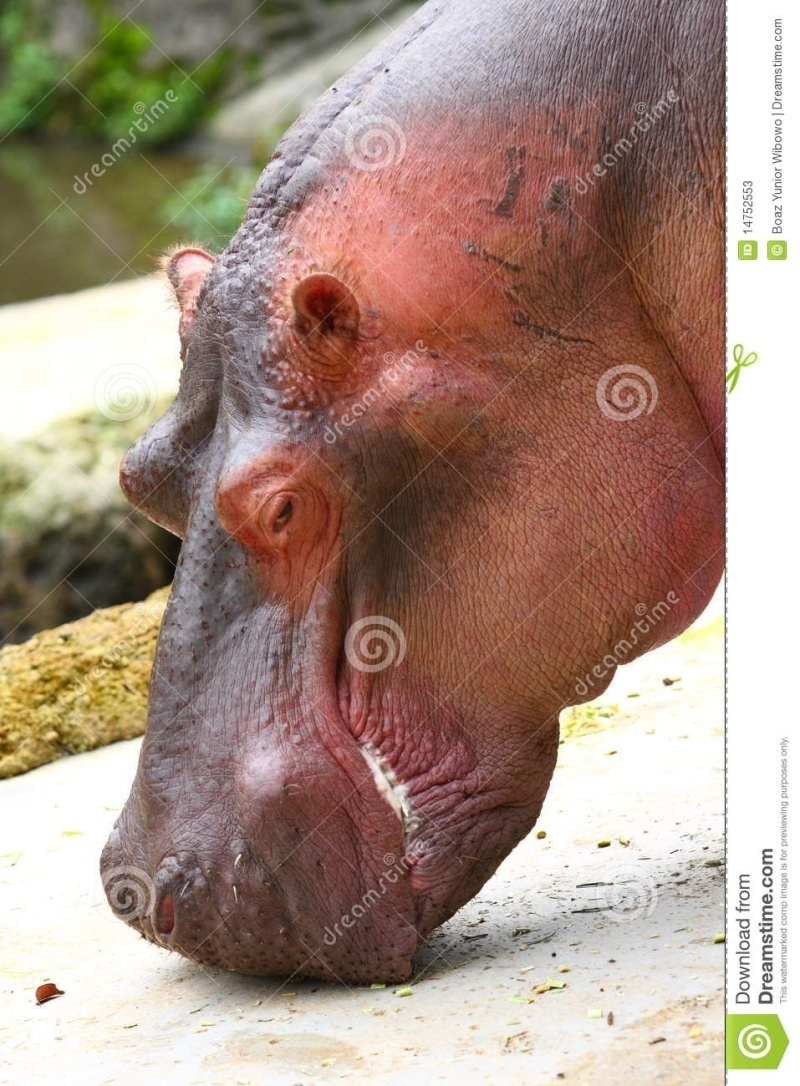hipopotamo: (91, 0, 725, 980)
